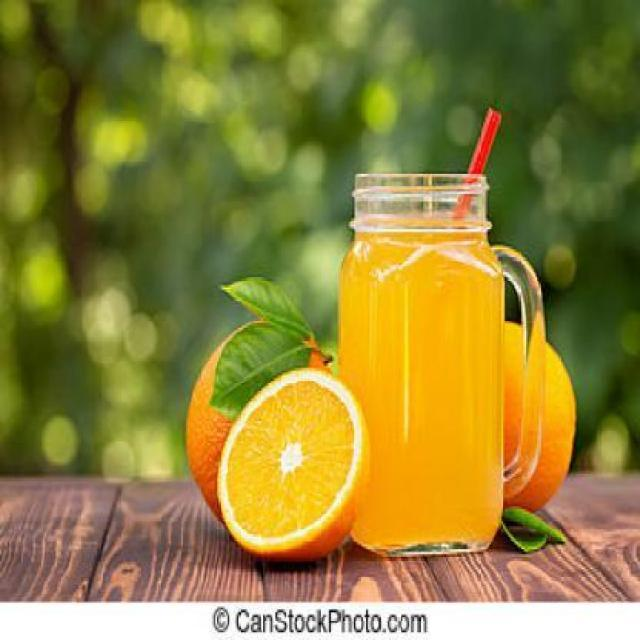Jeruk Sudah Matang: (187, 320, 336, 522), (448, 323, 580, 522)
